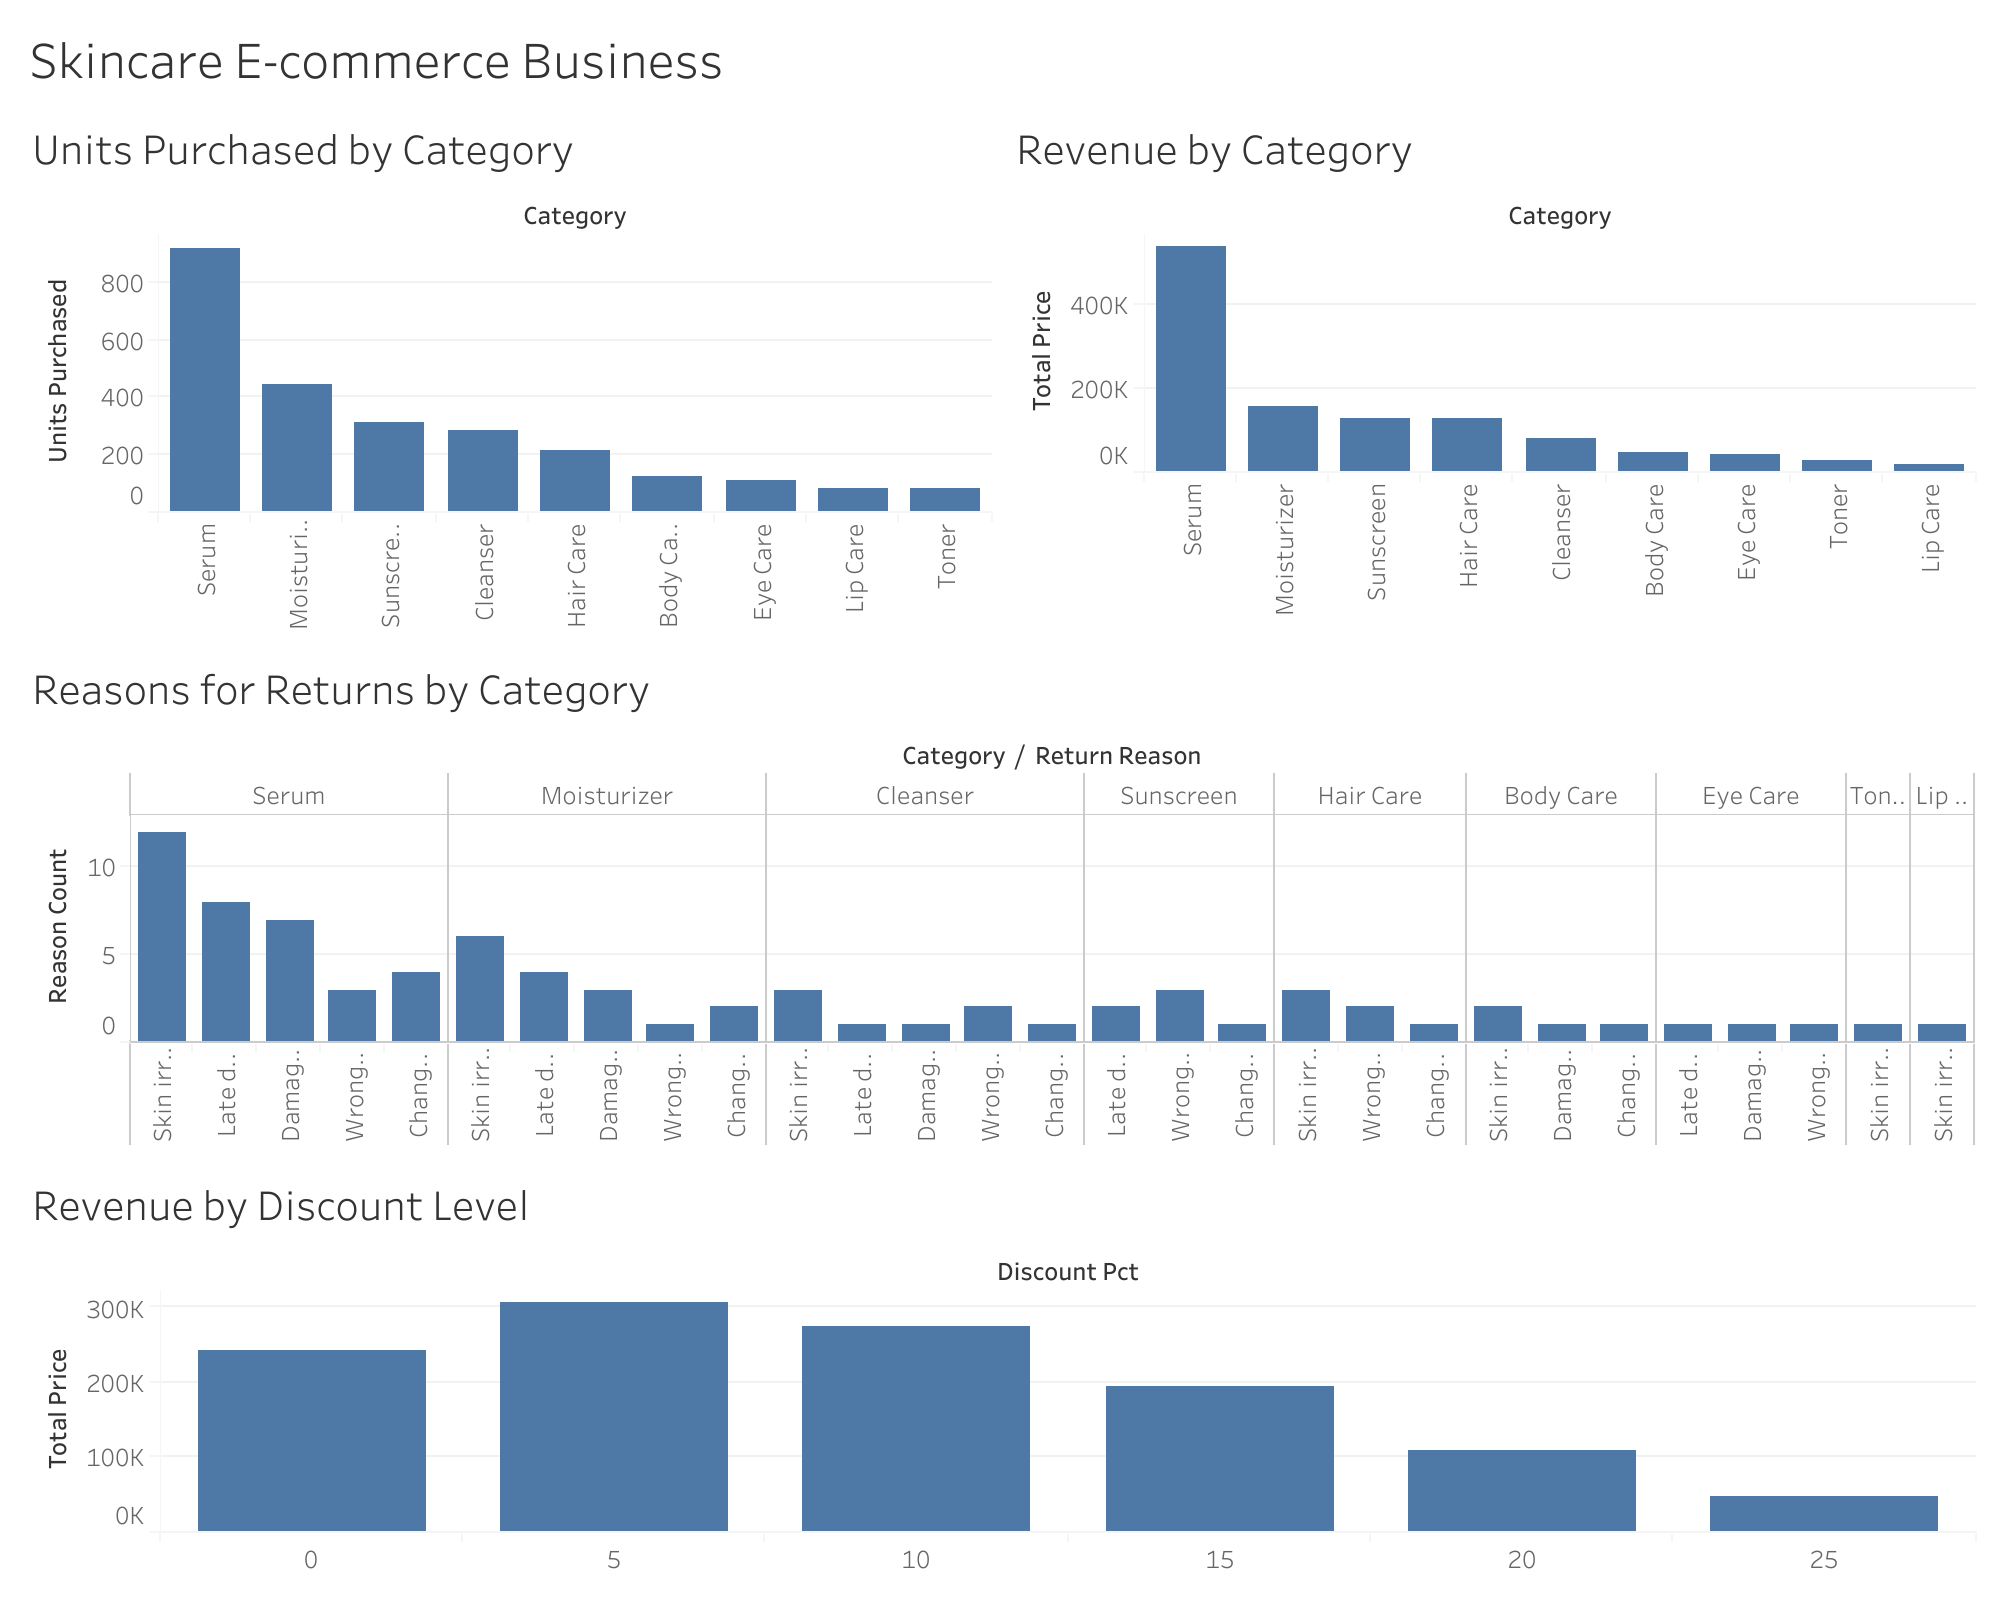

This screenshot's page, from the dashboard's own definition file:
{"tool":"tableau","page":{"name":"SkincareCompany","canvas":[1000,800],"ordinal":0},"visuals":[{"type":"worksheet","title":"Sheet 1","mark":"Automatic","rows":["units_purchased"],"cols":["category"],"box":[8,8,492,285]},{"type":"worksheet","title":"Sheet 5","mark":"Automatic","rows":["total_price"],"cols":["category"],"box":[500,8,492,285]},{"type":"worksheet","title":"Sheet 4","mark":"Automatic","rows":["reason_count"],"cols":["category","return_reason"],"box":[8,293,984,273]},{"type":"worksheet","title":"Sheet 7","mark":"Bar","rows":["total_price"],"cols":["discount_pct"],"box":[8,566,984,226]}]}

Visuals, with their boxes in screenshot pixels (x1, y1, x2, y2), scaled from the page's 1000x800 canvas onto the 1998x1598 screenshot:
"Sheet 1" worksheet: (left=16, top=16, right=999, bottom=585)
"Sheet 5" worksheet: (left=999, top=16, right=1982, bottom=585)
"Sheet 4" worksheet: (left=16, top=585, right=1982, bottom=1131)
"Sheet 7" worksheet (Bar marks): (left=16, top=1131, right=1982, bottom=1582)
